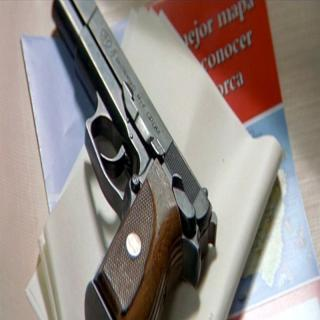gun: (50, 0, 217, 316)
